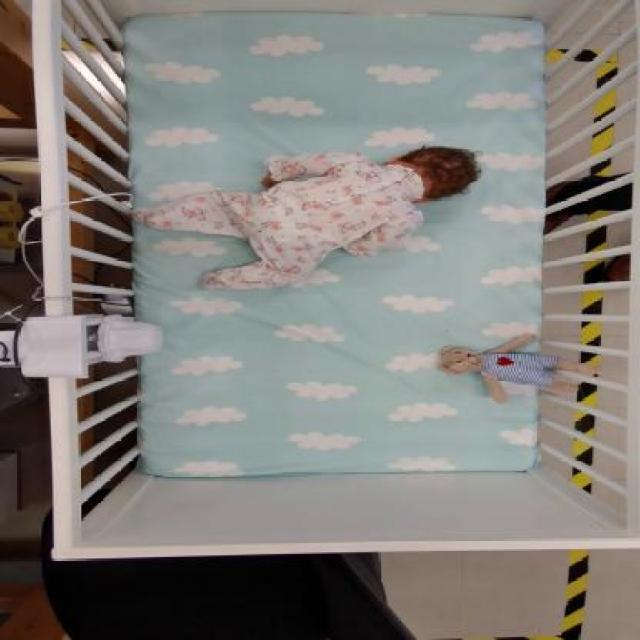baby: (130, 144, 482, 293)
